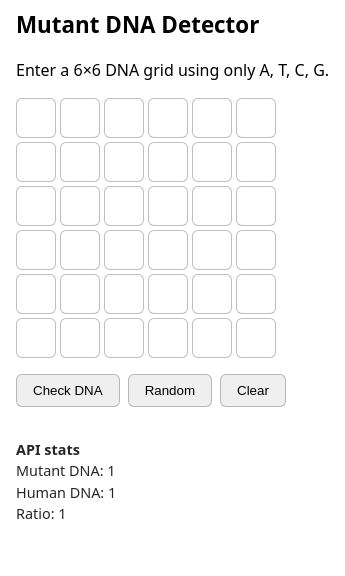
Test case: Home page › fills via Random and reports a mutant on check
The image size is (345, 576).
Expected: the text "Mutant DNA: 1" is shown, [16,461,116,480]
Click the button "Random" at (170, 390), box [128,374,212,407]
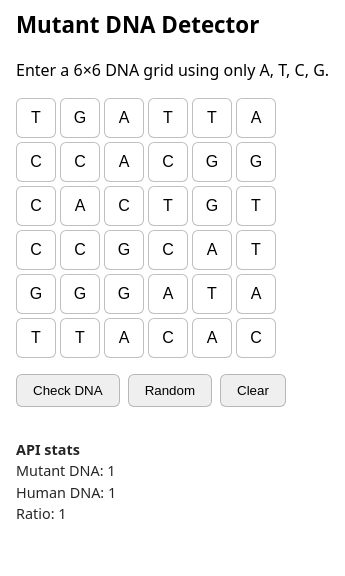
Click the button "Check DNA" at (68, 390), box [16,374,120,407]
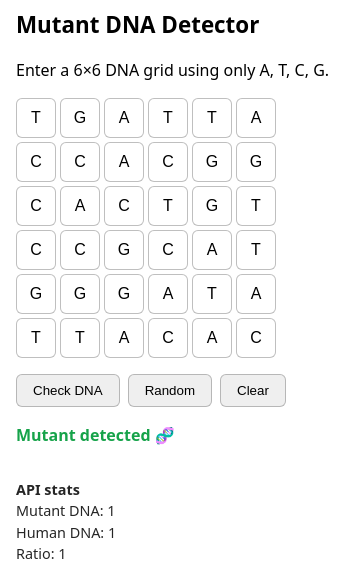
Result: the text "Mutant detected 🧬" is shown at [16,424,175,446]
